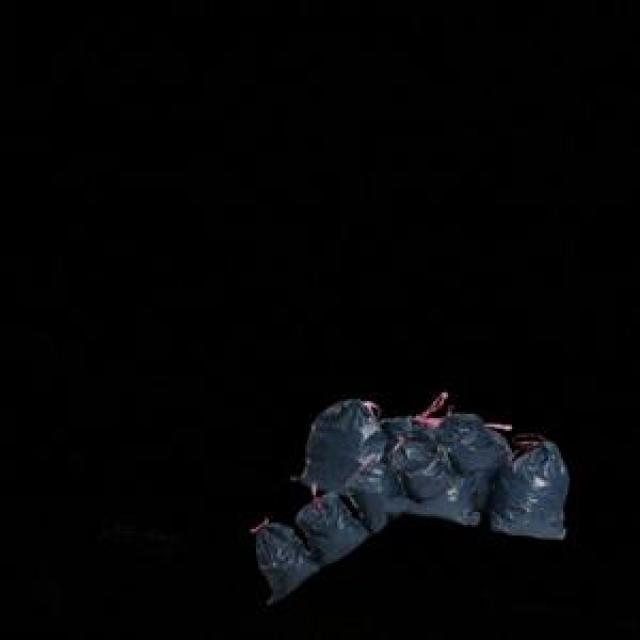Vinyl: (254, 392, 569, 602)
